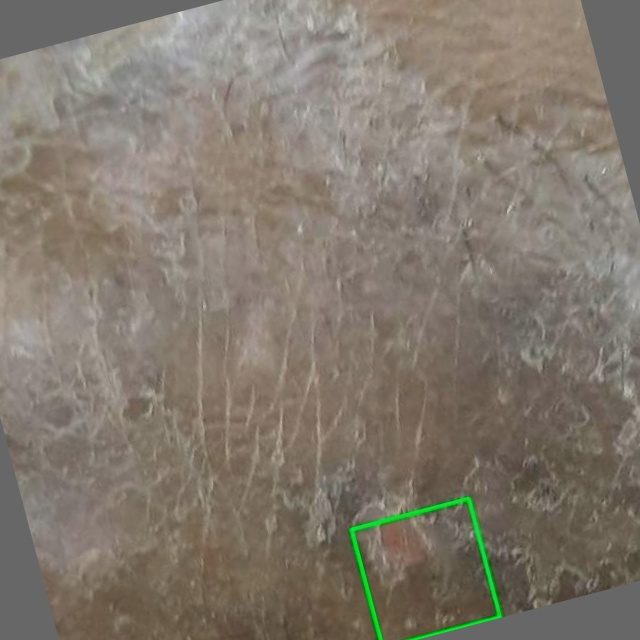Eczema: (351, 498, 500, 639)
